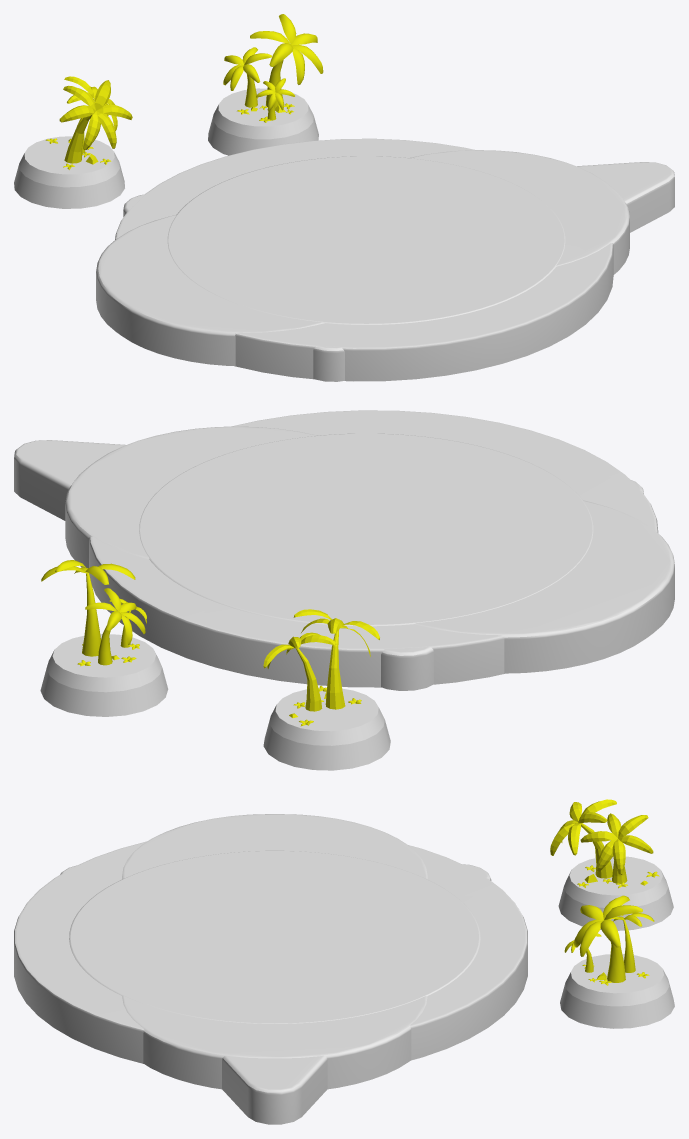
The model's file is combine.glb.
3 views of the same model, one above another, from view 1: azimuth 30°, elevation 25°; view 2: azimuth 150°, elevation 25°; view 3: azimuth 270°, elevation 25° (orthographic). The views are drawn at different scales.
Visible parts, largest first — view 1: ground1, ground3, ground2, base (×2), main (×2), ground4; view 2: ground1, ground3, ground2, base (×2), ground4, main (×2); view 3: ground1, ground3, ground2, base (×2), main (×2), ground4.
Boxes of the visible parts, x1,y1,x2,y2 form: ground1: [167, 156, 565, 324]; ground3: [115, 138, 613, 381]; ground2: [96, 150, 629, 366]; base (×2): [14, 88, 318, 208]; main (×2): [45, 14, 323, 169]; ground4: [123, 162, 674, 381]; ground1: [139, 433, 593, 626]; ground3: [89, 410, 658, 687]; ground2: [65, 426, 674, 673]; base (×2): [40, 634, 390, 770]; ground4: [14, 440, 643, 690]; main (×2): [41, 560, 379, 726]; ground1: [69, 850, 480, 1023]; ground3: [14, 841, 527, 1063]; ground2: [122, 814, 427, 1089]; base (×2): [558, 856, 674, 1028]; main (×2): [550, 799, 659, 985]; ground4: [60, 864, 491, 1124].
Size of what is drawn, in the model's own units: 0.519 by 0.0987 by 0.5217.
6 materials, 1 textured.
